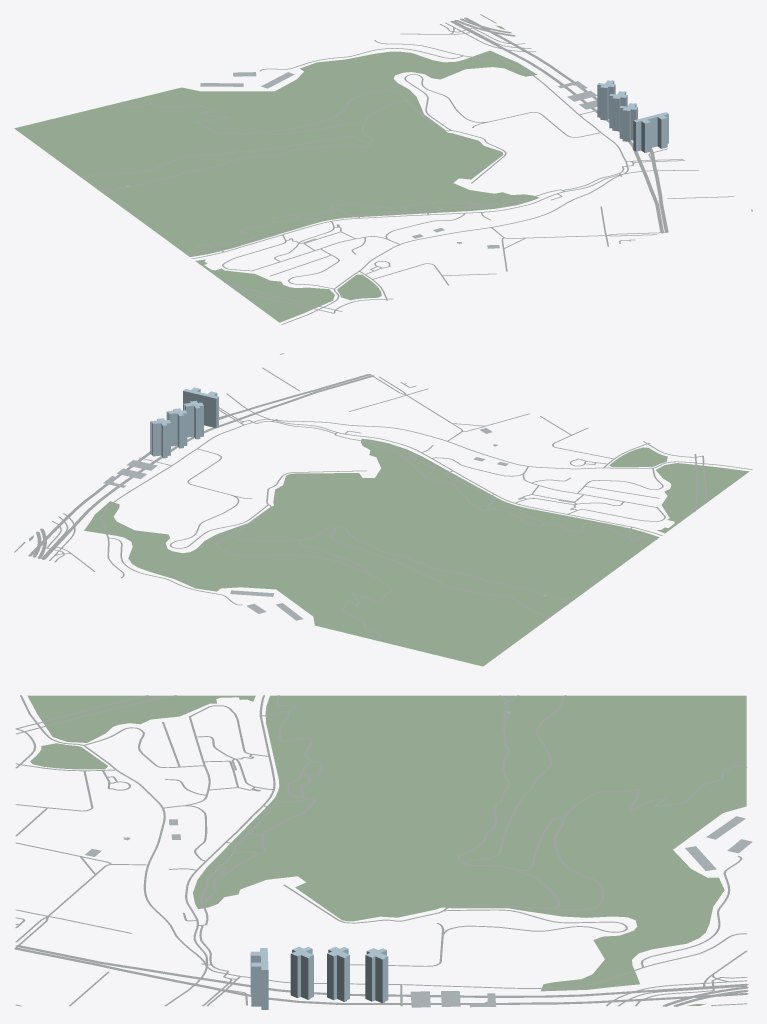
File: -15_-6-known-coarse.glb
3 renders of one model, top to bottom at view 1: azimuth 30°, elevation 25°; view 2: azimuth 150°, elevation 25°; view 3: azimuth 270°, elevation 25°, orthographic. The views are drawn at different scales.
Bounding box in the file's own units: 1015 × 66 × 1007.
